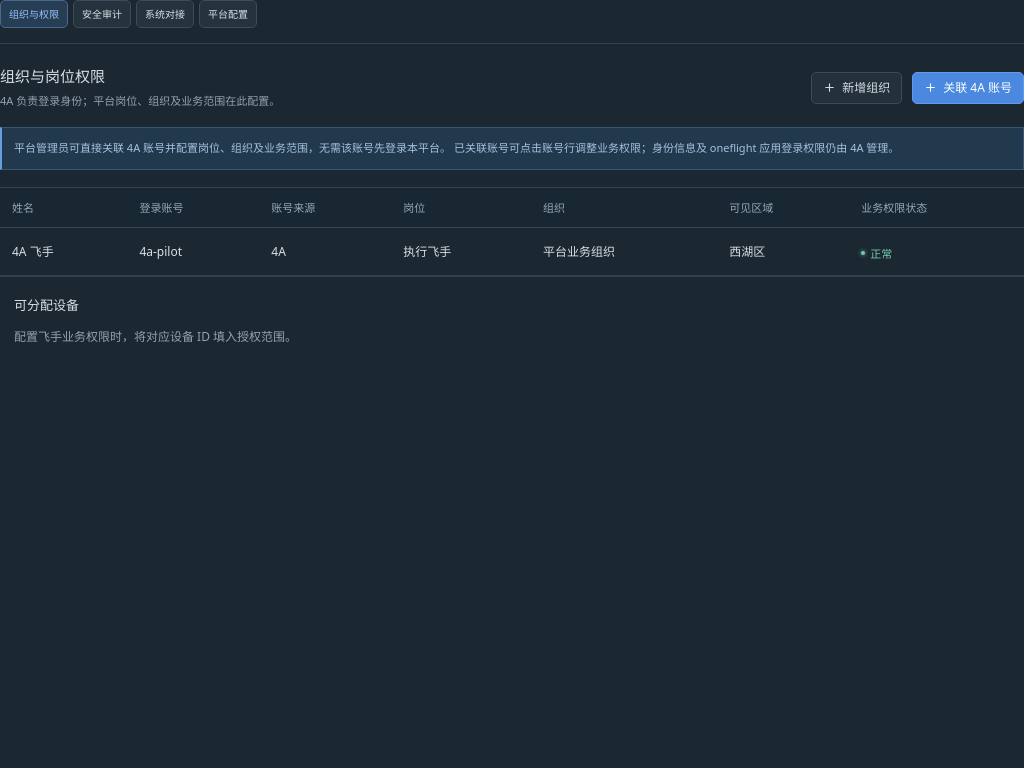
it: 4A identity and independent platform business access › opens an already linked account with its existing business permission scopes intact
Step 1. Click the button "关联 4A 账号" → (968, 88), box [912,72,1023,104]
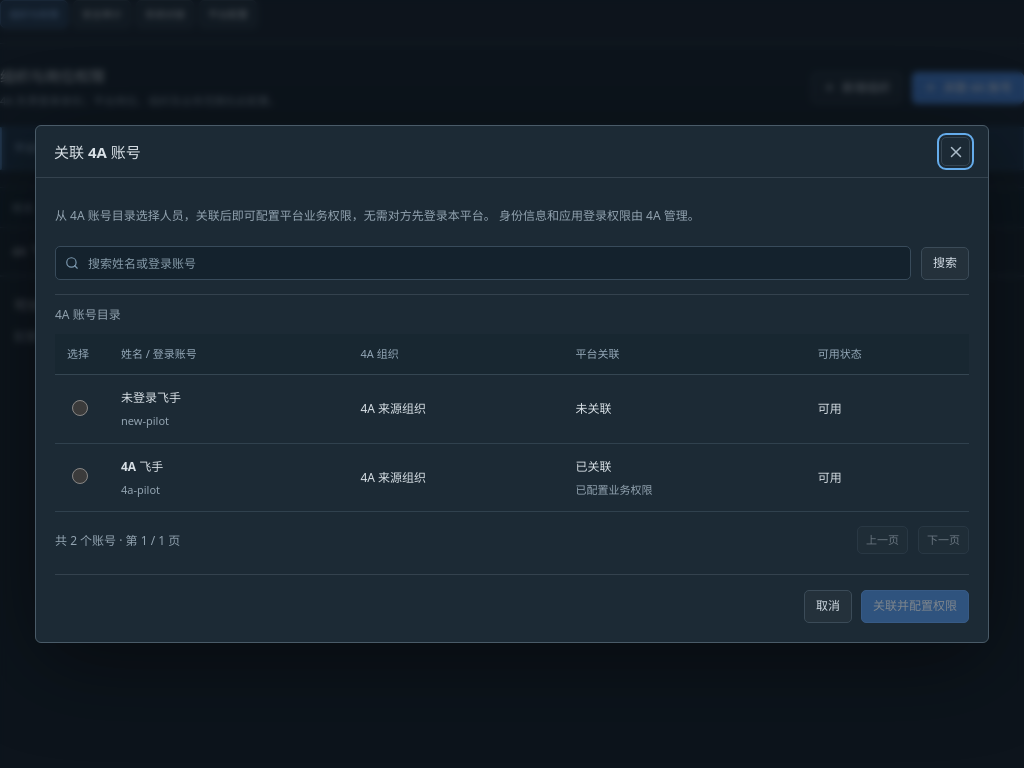
Step 2. Click the radio button named "选择 4A 飞手（4a-pilot）" → (80, 476), box [72,468,88,484]
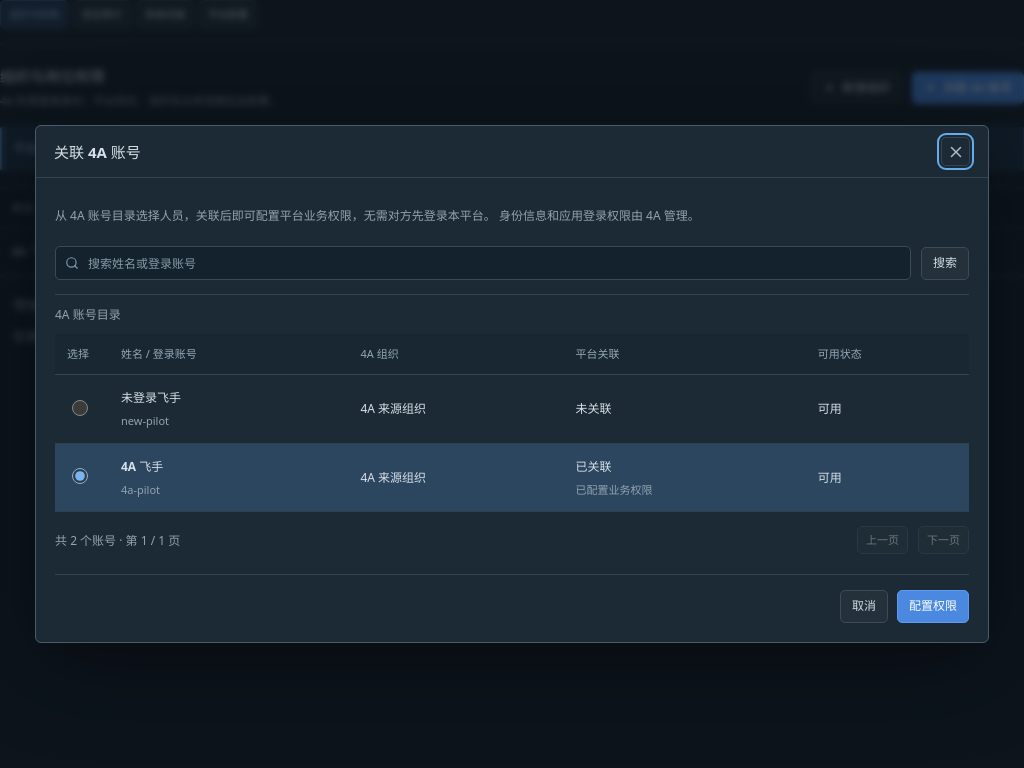
Step 3. Click the button "配置权限" → (933, 606), box [897,590,969,623]
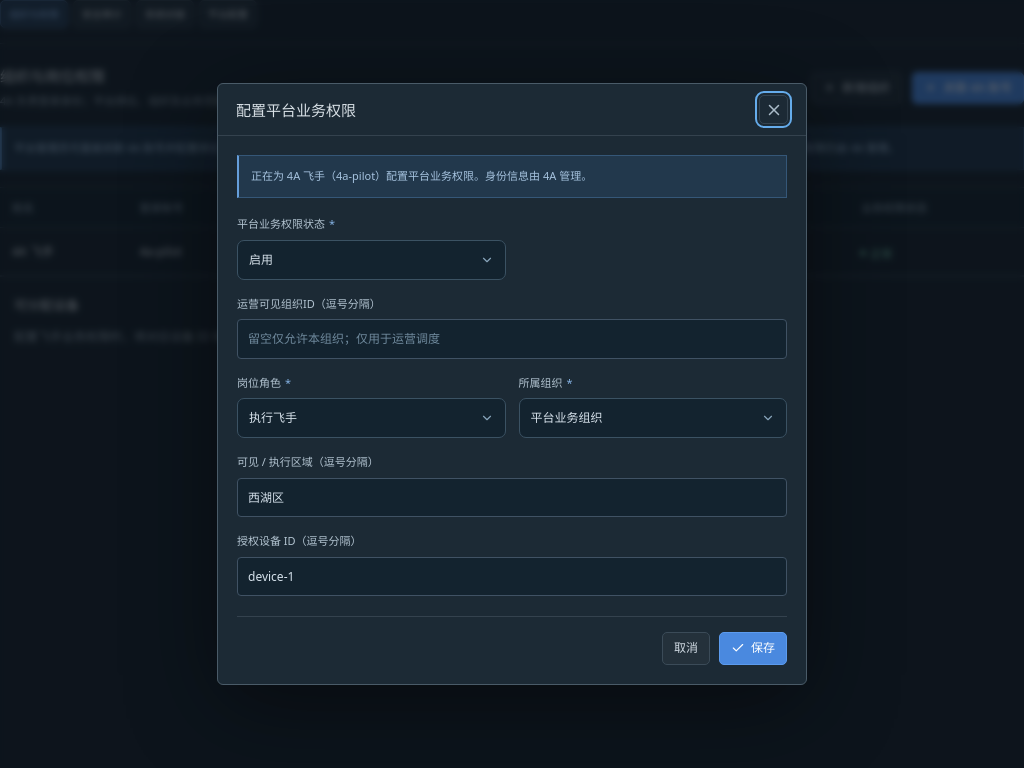
Expected: the dialog "配置平台业务权限" is shown, [217,83,807,685]
Expected: the dropdown named "岗位角色" shows "飞手", [237,398,506,438]
Expected: the dropdown named "所属组织" reads "平台业务组织", [518,398,787,438]
